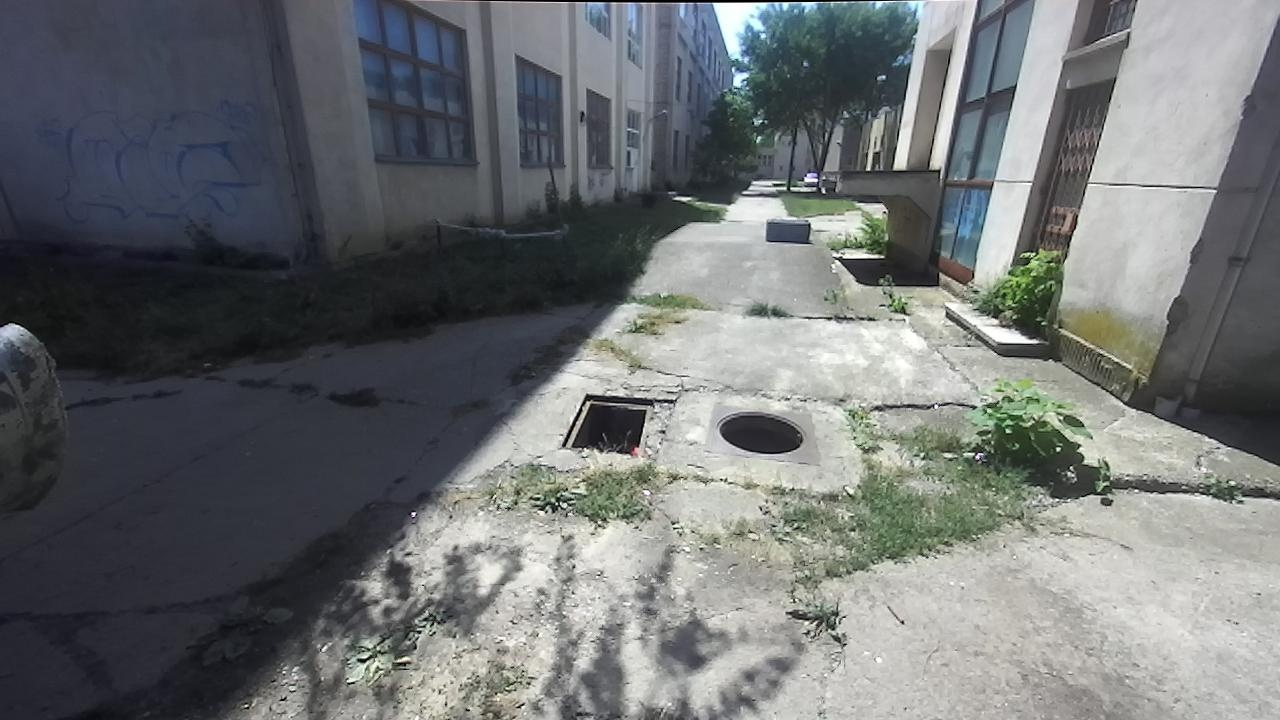drain: (555, 388, 657, 458), (706, 408, 811, 458)
